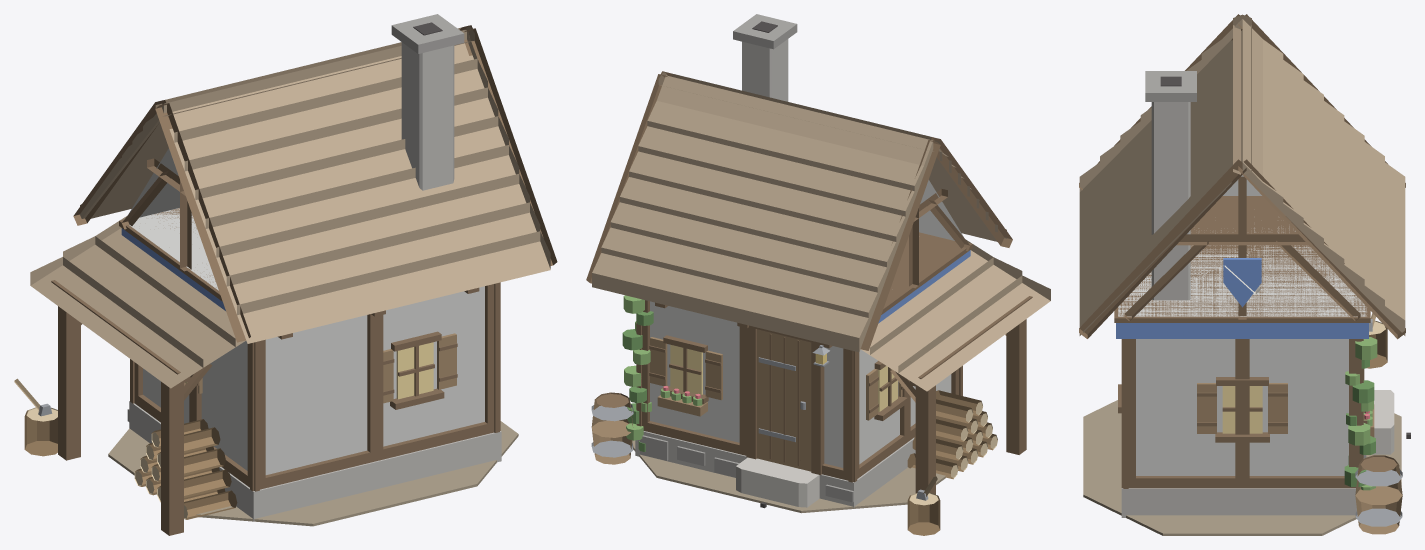
File: house_3.glb
3 renders of one model, left to right at view 1: azimuth 30°, elevation 25°; view 2: azimuth 150°, elevation 25°; view 3: azimuth 270°, elevation 25°, orthographic. The views are drawn at different scales.
Visible parts, largest first — view 1: Walls, Roof#9, Roof#10, Roof#11, Roof#12, Plinth, Roof#13, Roof#15, Roof#14, Shed.Roof, Chimney, Shed.Roof#2 (+31 smaller); view 2: Walls, Roof, Roof#4, Roof#5, Roof#7, Roof#2, Roof#3, Roof#6, Roof#8, Door, Shed.Roof, Shed.Roof#2 (+35 smaller); view 3: Walls, Band.Edge, Gable, Ground, Plinth, Chimney, Band, Roof#2, Roof#3, Roof#4, Roof, Roof#5 (+40 smaller).
Boxes of the visible parts, box(x1,y1,x2,y2) form: Walls: box(143, 286, 484, 474); Roof#9: box(237, 231, 550, 343); Roof#10: box(226, 202, 540, 313); Roof#11: box(216, 174, 529, 285); Roof#12: box(205, 145, 519, 257); Plinth: box(129, 401, 501, 521); Roof#13: box(195, 116, 508, 227); Roof#15: box(174, 58, 487, 170); Roof#14: box(184, 87, 498, 199); Shed.Roof: box(30, 257, 203, 388); Chimney: box(401, 42, 454, 190); Shed.Roof#2: box(63, 236, 235, 367); Walls: box(650, 301, 951, 467); Roof: box(592, 253, 868, 352); Roof#4: box(619, 177, 896, 275); Roof#5: box(629, 151, 905, 249); Roof#7: box(647, 101, 923, 199); Roof#2: box(601, 227, 877, 325); Roof#3: box(610, 202, 886, 301); Roof#6: box(638, 126, 914, 224); Roof#8: box(657, 75, 933, 173); Door: box(757, 329, 811, 471); Shed.Roof: box(898, 275, 1050, 391); Shed.Roof#2: box(870, 257, 1022, 372); Walls: box(1136, 339, 1348, 475); Band.Edge: box(1114, 196, 1370, 322); Gable: box(1118, 175, 1366, 316); Ground: box(1083, 400, 1401, 535); Plinth: box(1121, 488, 1356, 517); Chimney: box(1151, 102, 1190, 300); Band: box(1116, 323, 1368, 338); Roof#2: box(1364, 142, 1384, 315); Roof#3: box(1344, 121, 1364, 294); Roof#4: box(1324, 101, 1344, 274); Roof: box(1385, 162, 1405, 335); Roof#5: box(1303, 80, 1323, 253).
Bounding box in the file's own units: 4.82 × 5.02 × 3.65.
